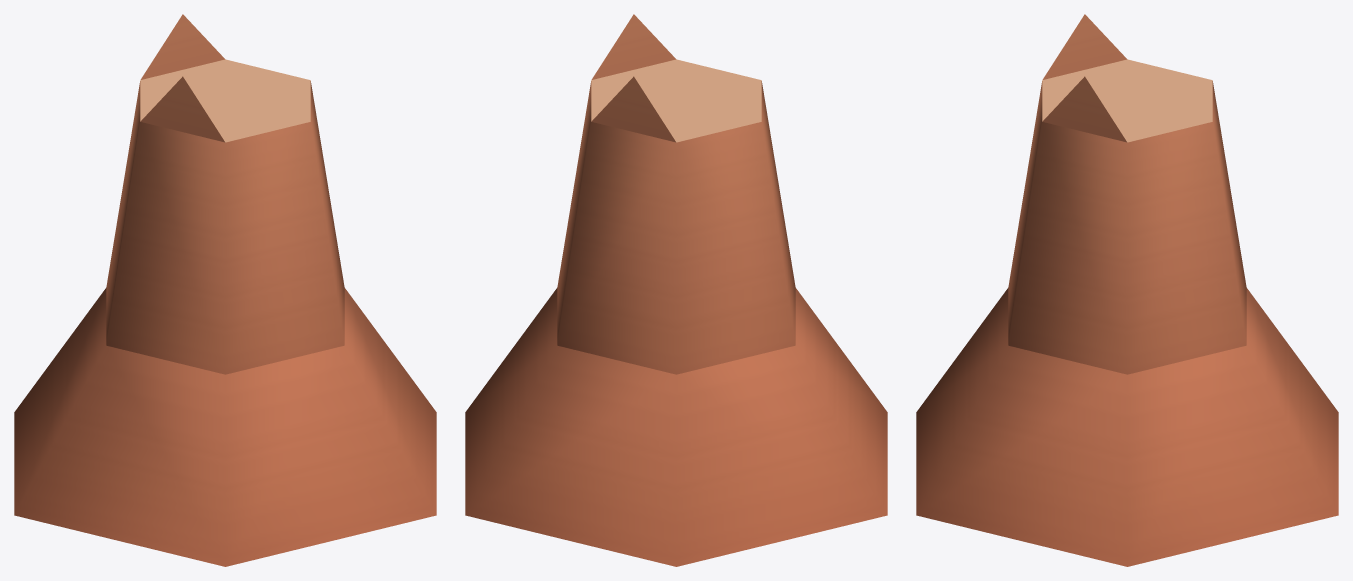
File: tree-trunk.obj
3 views of the same model, side by side, from view 1: azimuth 30°, elevation 25°; view 2: azimuth 150°, elevation 25°; view 3: azimuth 270°, elevation 25° (orthographic).
Visible parts, largest first — view 1: tree-trunk; view 2: tree-trunk; view 3: tree-trunk.
Boxes of the visible parts, bbox=[...] form: tree-trunk: bbox=[14, 14, 436, 566]; tree-trunk: bbox=[465, 14, 887, 566]; tree-trunk: bbox=[916, 14, 1338, 566].
Bounding box in the file's own units: 0.396 × 0.3751 × 0.3429.
1 material, 1 textured.
